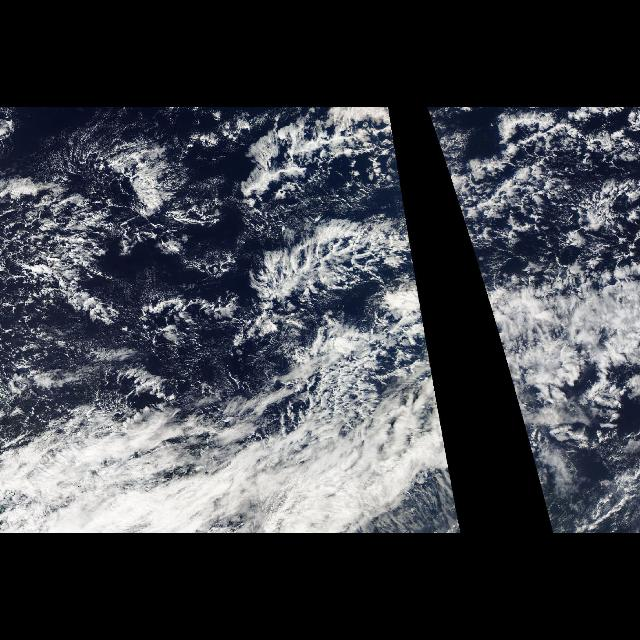Fish: (13, 133, 427, 337), (436, 133, 590, 337)
Gravel: (4, 198, 114, 382)
